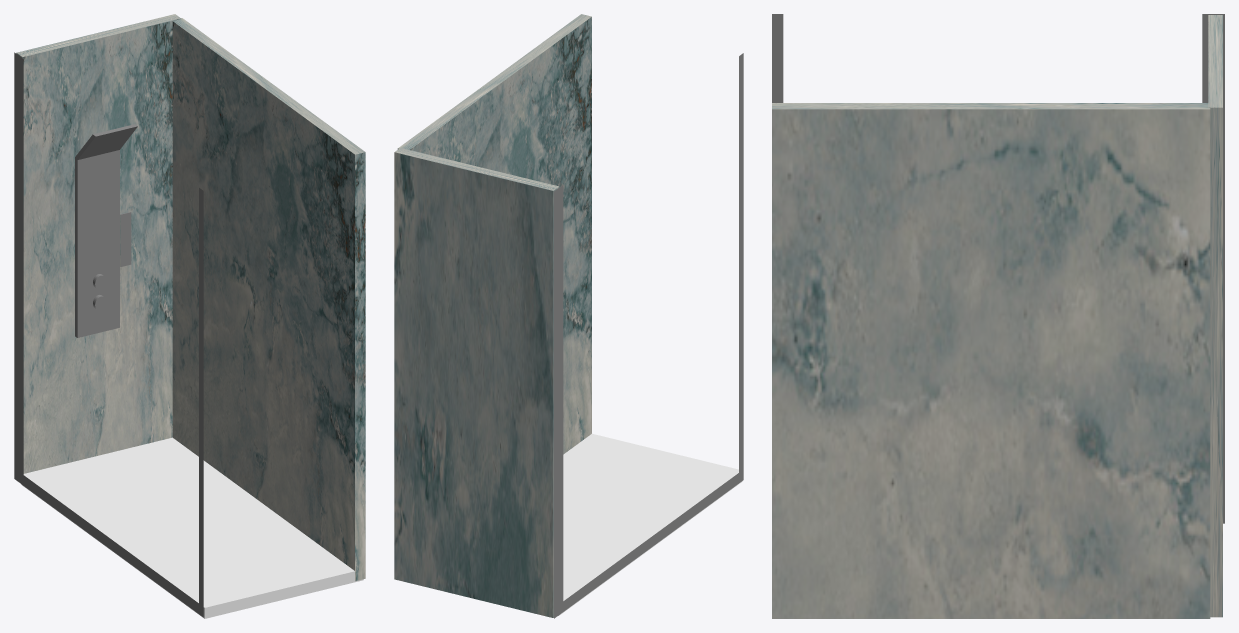
File: kinewall-3.glb
3 renders of one model, left to right at view 1: azimuth 30°, elevation 25°; view 2: azimuth 150°, elevation 25°; view 3: azimuth 270°, elevation 25°, orthographic. The views are drawn at different scales.
Visible parts, largest first — view 1: kinewall-back, kinewall; view 2: kinewall-back, kinewall; view 3: kinewall-back, kinewall.
Part boxes in pixels (bbox=[...]): kinewall-back: bbox=[16, 14, 365, 581]; kinewall: bbox=[14, 52, 363, 618]; kinewall-back: bbox=[394, 14, 591, 617]; kinewall: bbox=[554, 53, 743, 618]; kinewall-back: bbox=[772, 15, 1222, 618]; kinewall: bbox=[772, 14, 1224, 523].
Bounding box in the file's own units: 3.06 × 7.73 × 6.2.
Materials: 4 (1 with a texture image).
